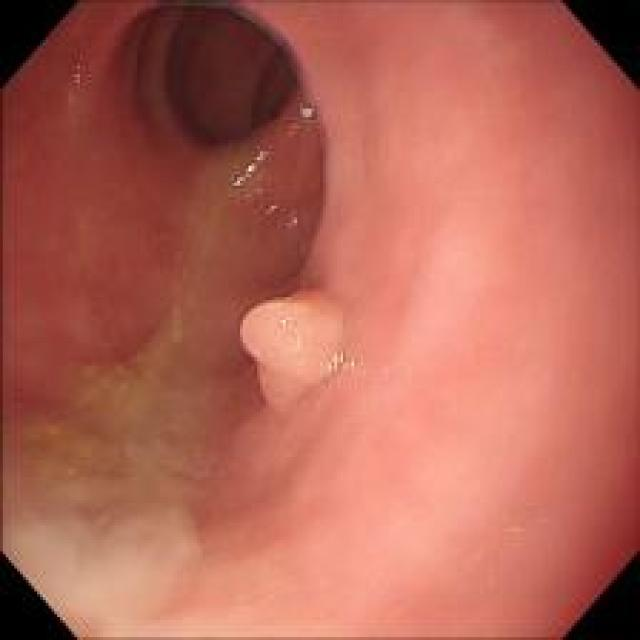color misalignment: (238, 6, 289, 45), (232, 151, 268, 189), (282, 44, 309, 82), (166, 0, 241, 11), (72, 62, 82, 88), (286, 211, 299, 231), (266, 204, 278, 214)
specularity: (316, 340, 370, 388), (275, 310, 318, 359), (226, 154, 279, 188), (69, 56, 91, 88), (295, 101, 320, 129), (286, 206, 308, 236), (262, 198, 282, 226)
